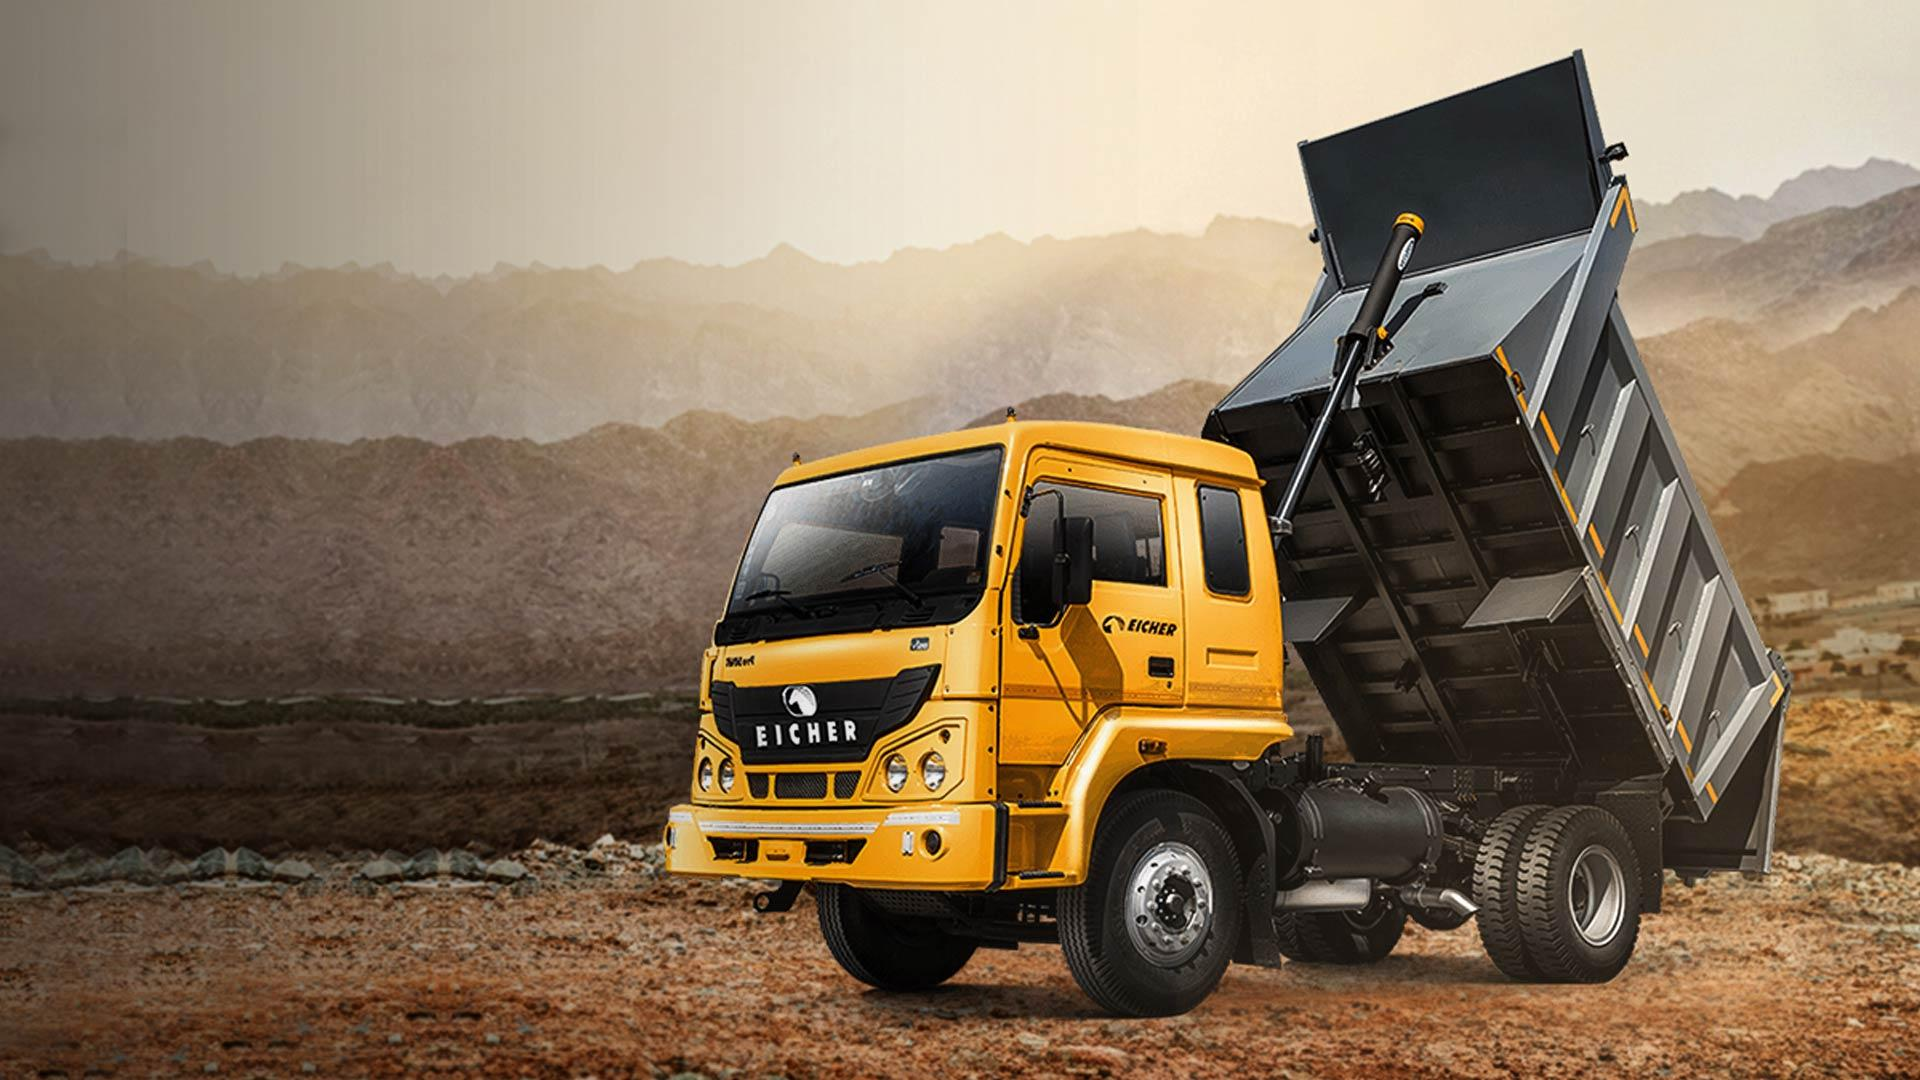truck: (659, 49, 1789, 1018)
